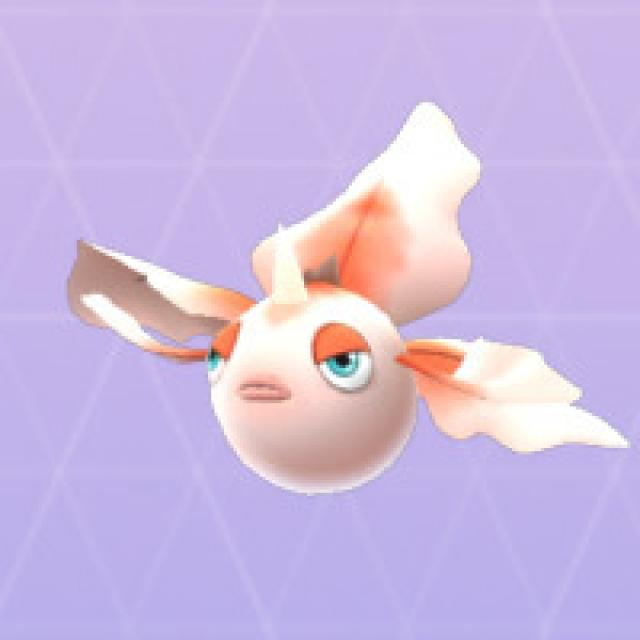Goldeen: (146, 186, 502, 500)
